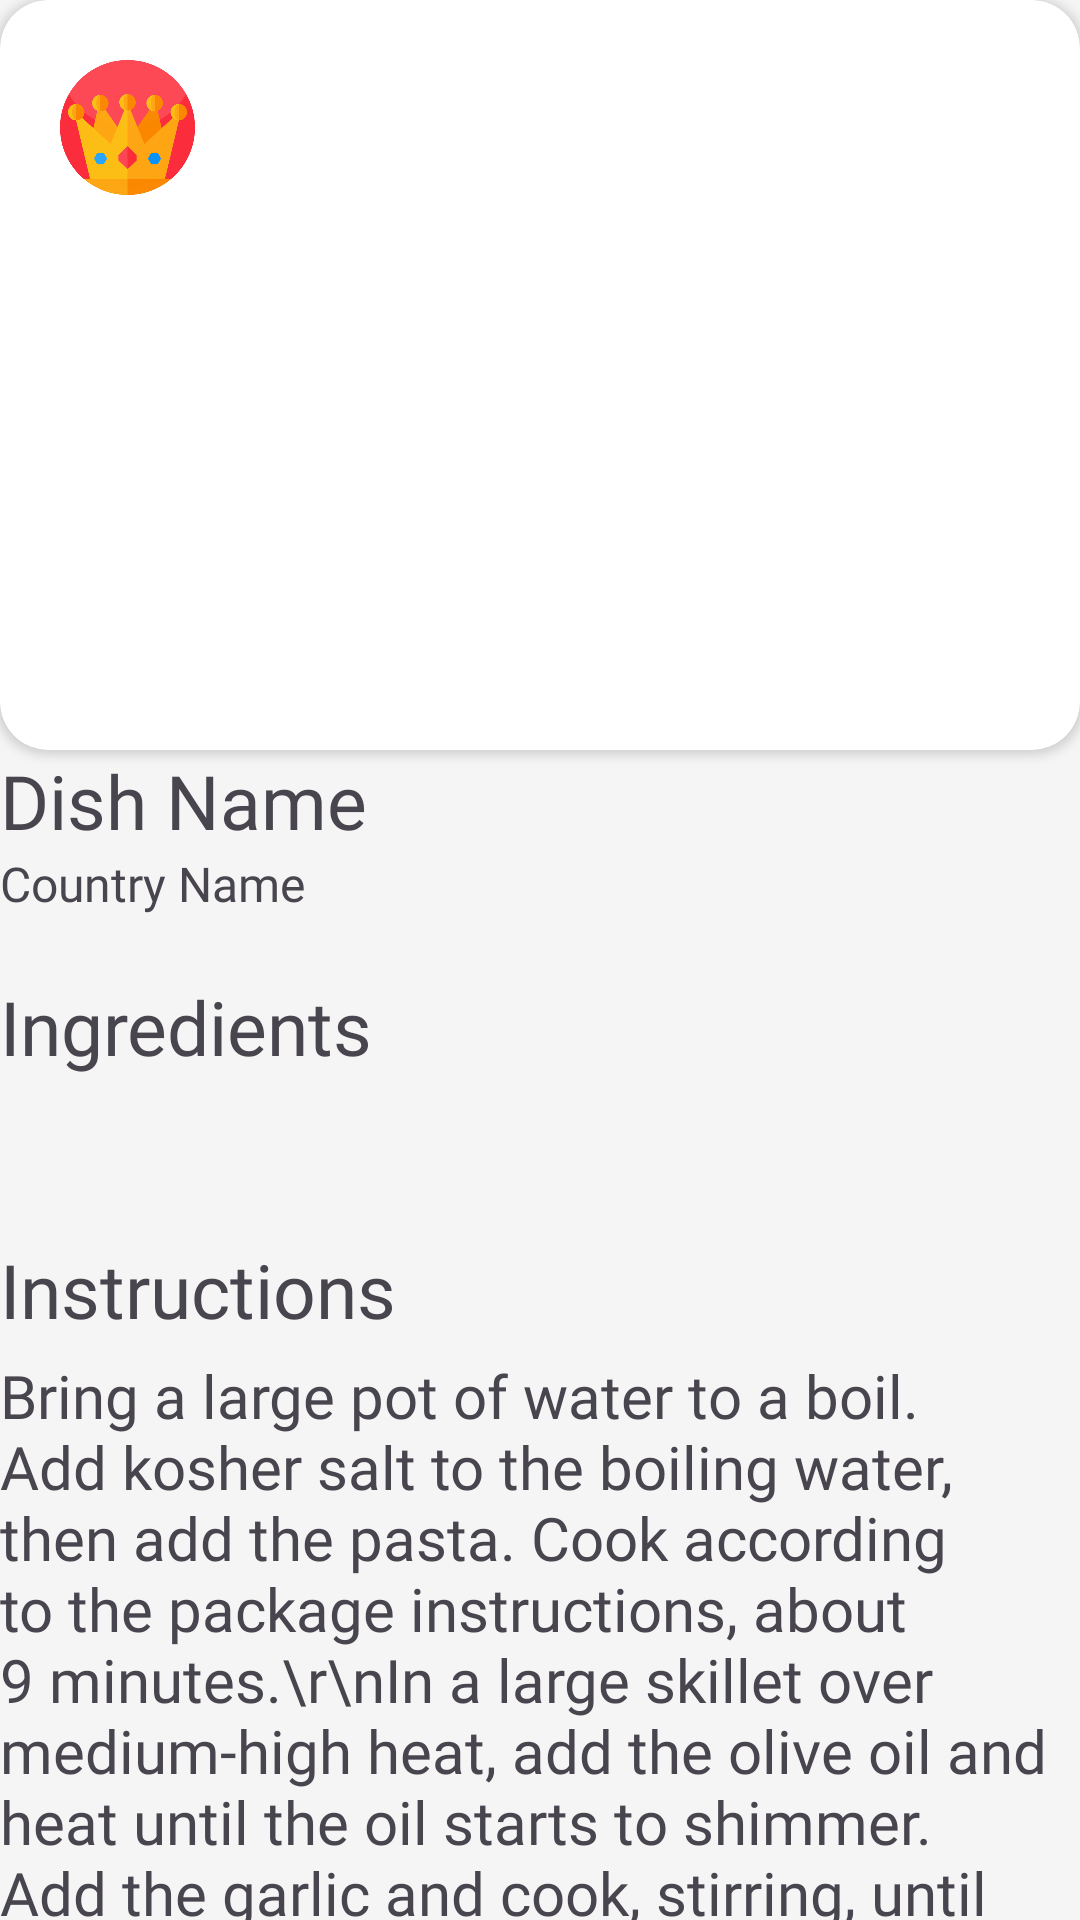

Locate icon controls on the screen. Image size 1080×1920, boxes as (x1, y1, x2, y2).
premium: (60, 60, 195, 195)
